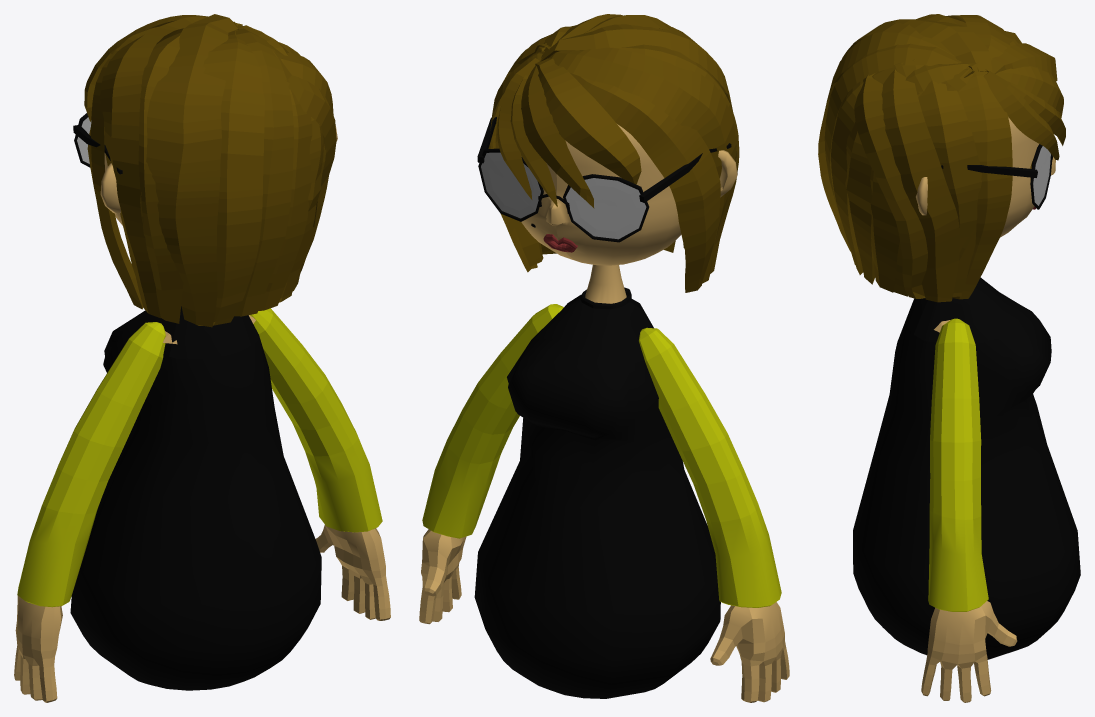
Rendered from Bea.glb.
The picture shows the model from 3 angles, left to right: view 1: azimuth 30°, elevation 25°; view 2: azimuth 150°, elevation 25°; view 3: azimuth 270°, elevation 25°; orthographic projection. The views are drawn at different scales.
Visible parts, largest first — view 1: Bea_body, Bea_hair, Bea_arm_R, Bea_arm_L, Bea_glasses, Bea_ear_R; view 2: Bea_body, Bea_hair, Bea_arm_R, Bea_arm_L, Bea_glasses, Bea_head, Bea_neck, Bea_ear_R; view 3: Bea_hair, Bea_body, Bea_arm_L, Bea_head, Bea_glasses.
Boxes of the visible parts, x1,y1,x2,y2 form: Bea_body: [70, 306, 321, 690]; Bea_hair: [84, 14, 336, 327]; Bea_arm_R: [14, 322, 165, 702]; Bea_arm_L: [250, 308, 390, 620]; Bea_glasses: [73, 113, 122, 174]; Bea_ear_R: [100, 163, 120, 214]; Bea_body: [474, 287, 720, 698]; Bea_hair: [488, 14, 739, 292]; Bea_arm_R: [639, 327, 789, 702]; Bea_arm_L: [419, 304, 563, 624]; Bea_glasses: [477, 117, 731, 242]; Bea_head: [521, 124, 681, 265]; Bea_neck: [585, 265, 626, 303]; Bea_ear_R: [718, 150, 737, 197]; Bea_hair: [818, 14, 1065, 302]; Bea_body: [853, 277, 1080, 659]; Bea_arm_L: [921, 318, 1017, 702]; Bea_head: [1000, 117, 1055, 237]; Bea_glasses: [941, 144, 1052, 209].
Bounding box in the file's own units: 0.0493 × 0.0872 × 0.0333.
